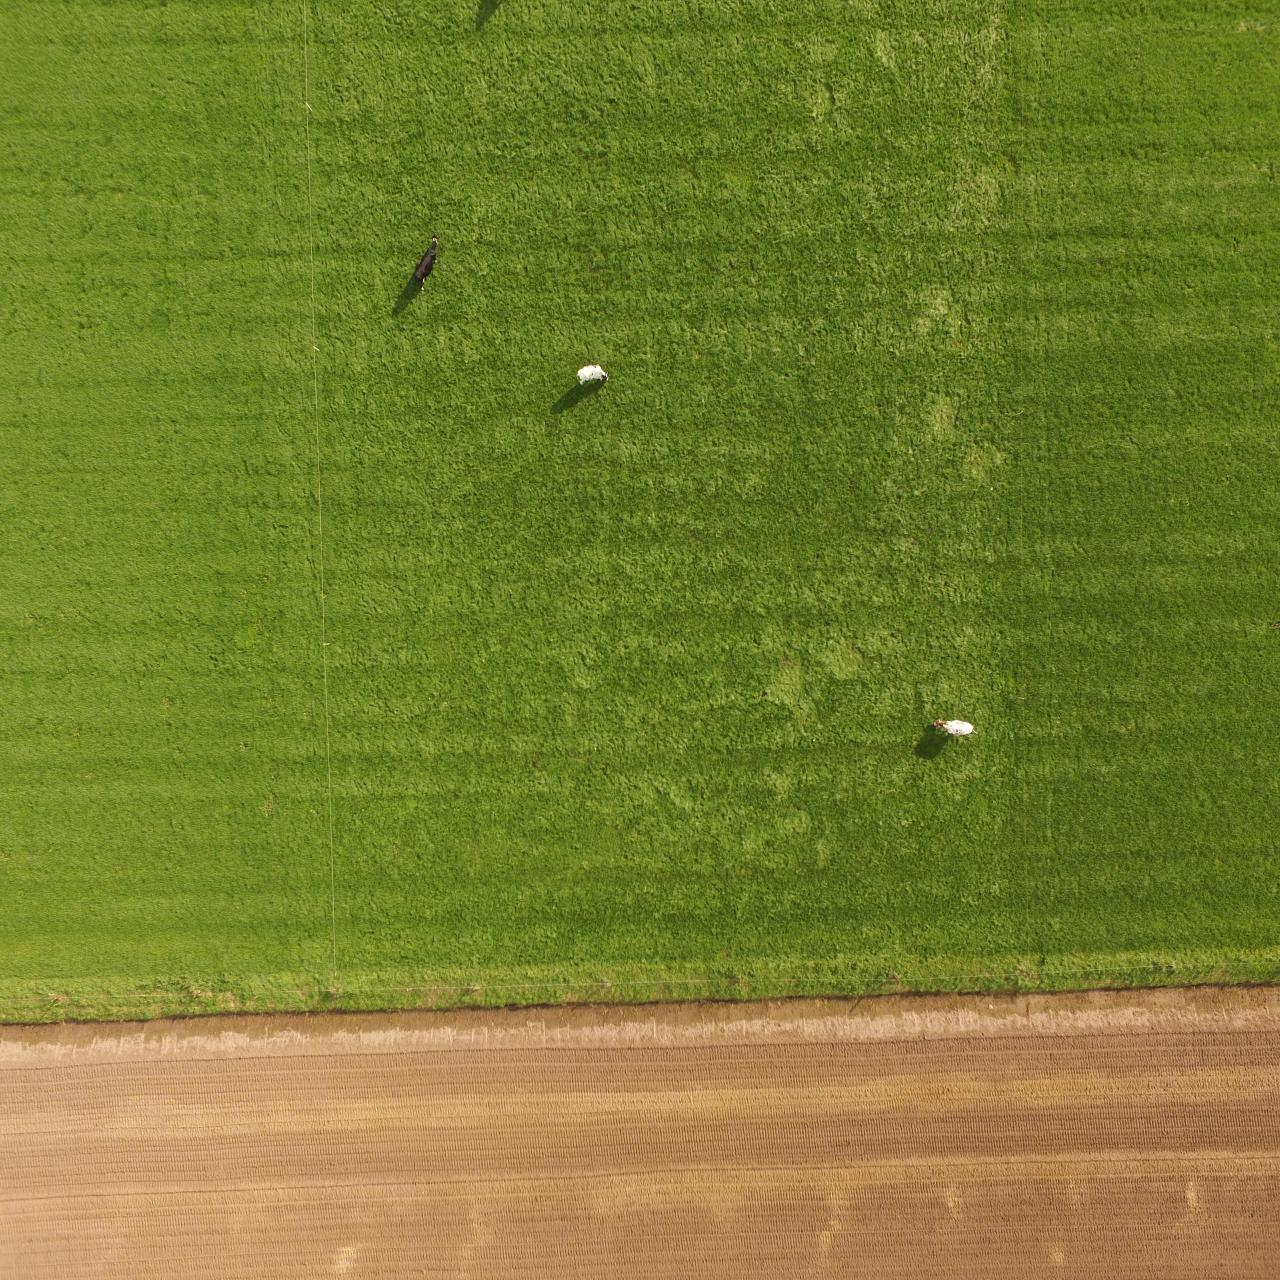cow: (413, 232, 444, 284), (928, 715, 979, 742), (573, 361, 612, 386)
